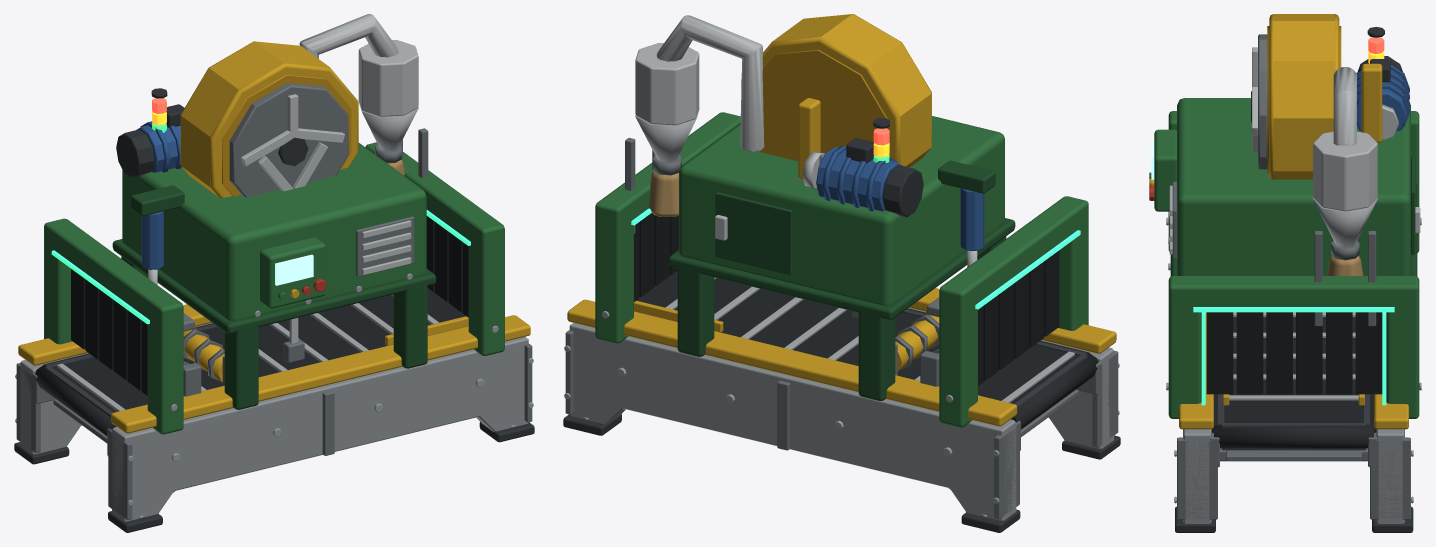
File: fw_sawmill.glb
3 views of the same model, side by side, from view 1: azimuth 30°, elevation 25°; view 2: azimuth 150°, elevation 25°; view 3: azimuth 270°, elevation 25° (orthographic). The views are drawn at different scales.
Parts seen in each view (by area): view 1: prism, block.066, cyl.021, belt, cyl.023, block.002, block.037, block.067, cyl.033, block.035, block.044, block.046 (+32 smaller); view 2: prism.001, block.066, belt, cyl.021, cyl.022, block.009, block.037, block.074, block.067, pipe, cyl.033, block.036 (+32 smaller); view 3: block.066, cyl.021, block.046, belt, cyl.033, block.045, block.044, cyl.002, prism, prism.001, block.047, block.048 (+34 smaller).
Boxes of the visible parts, x1,y1,x2,y2 form: prism: [112, 337, 528, 521]; block.066: [122, 143, 426, 320]; cyl.021: [180, 41, 358, 197]; belt: [43, 288, 465, 412]; cyl.023: [229, 83, 348, 197]; block.002: [111, 315, 530, 433]; block.037: [44, 218, 183, 329]; block.067: [112, 239, 436, 333]; cyl.033: [358, 40, 418, 116]; block.035: [147, 311, 183, 434]; block.044: [468, 232, 504, 355]; block.046: [365, 142, 504, 251]; prism.001: [569, 322, 1016, 520]; block.066: [679, 116, 1004, 305]; belt: [637, 271, 1089, 403]; cyl.021: [741, 14, 931, 167]; cyl.022: [760, 50, 887, 161]; block.009: [567, 299, 1017, 426]; block.037: [939, 196, 1088, 315]; block.074: [715, 192, 792, 275]; block.067: [668, 218, 1015, 319]; pipe: [656, 15, 764, 151]; cyl.033: [635, 43, 699, 125]; block.036: [939, 294, 977, 427]; block.066: [1177, 98, 1410, 275]; cyl.021: [1269, 14, 1339, 179]; block.046: [1168, 276, 1419, 308]; belt: [1212, 317, 1376, 432]; cyl.033: [1313, 131, 1377, 211]; block.045: [1386, 297, 1419, 418]; block.044: [1168, 297, 1201, 418]; cyl.002: [1214, 425, 1373, 448]; prism: [1183, 429, 1211, 523]; prism.001: [1376, 429, 1404, 523]; block.047: [1206, 312, 1233, 394]; block.048: [1236, 312, 1263, 394].
Size of the model in its own units: 2.42 by 2.19 by 1.33.
